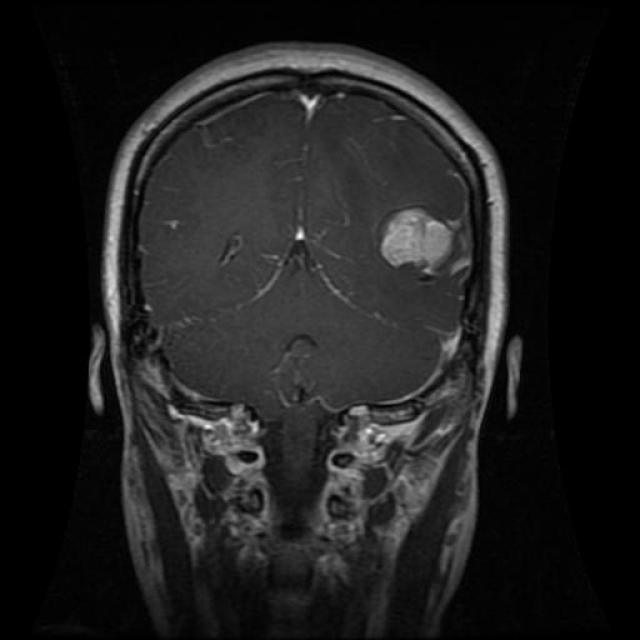Brain-Tumor: (372, 183, 470, 297)
